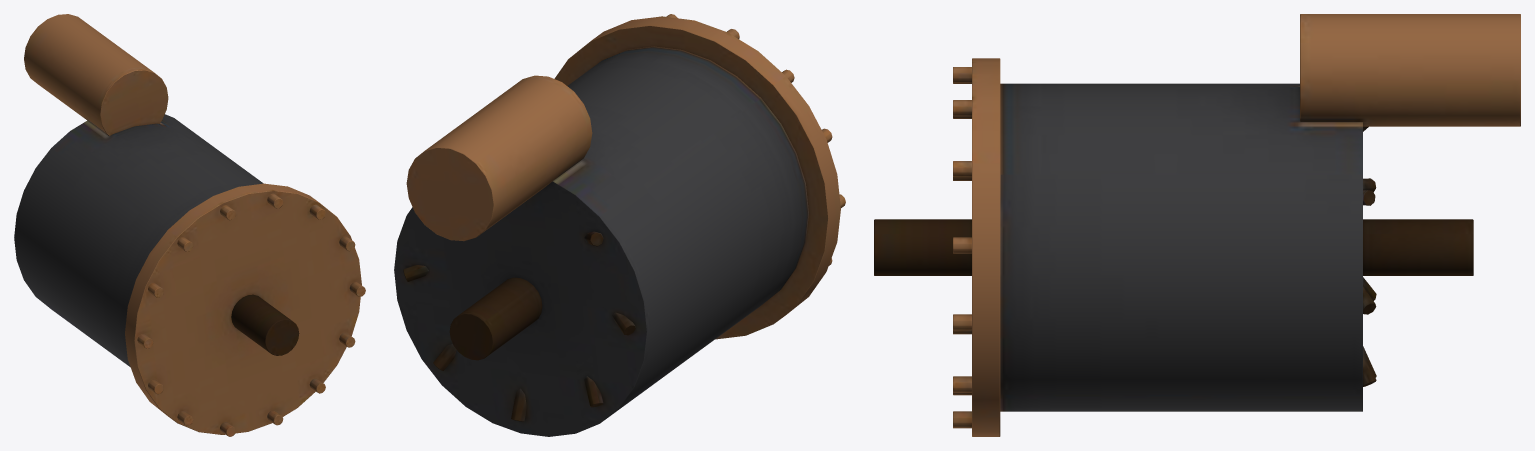
File: LV_turbine_housing.glb
The picture shows the model from 3 angles, left to right: view 1: azimuth 30°, elevation 25°; view 2: azimuth 150°, elevation 25°; view 3: azimuth 270°, elevation 25°; orthographic projection. The views are drawn at different scales.
Visible parts, largest first — view 1: LV_turbine_housing; view 2: LV_turbine_housing; view 3: LV_turbine_housing.
Part boxes in pixels (bbox=[...]): LV_turbine_housing: bbox=[14, 14, 365, 436]; LV_turbine_housing: bbox=[394, 14, 845, 436]; LV_turbine_housing: bbox=[874, 14, 1520, 436].
Bounding box in the file's own units: 1.2 × 1.4 × 2.05.
1 material, 1 textured.
